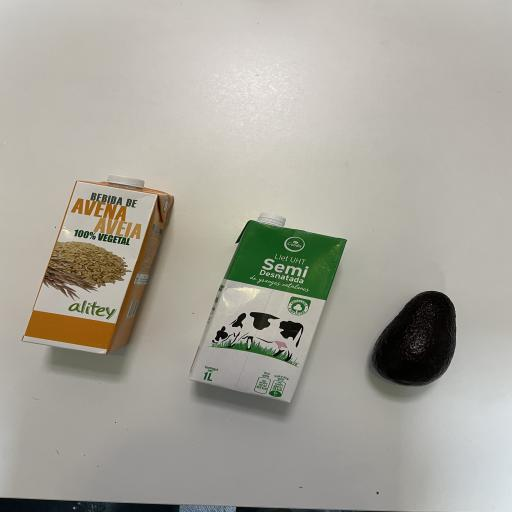avocado: (354, 267, 491, 414)
milk: (182, 177, 360, 415)
oat_milk: (15, 150, 182, 383)
